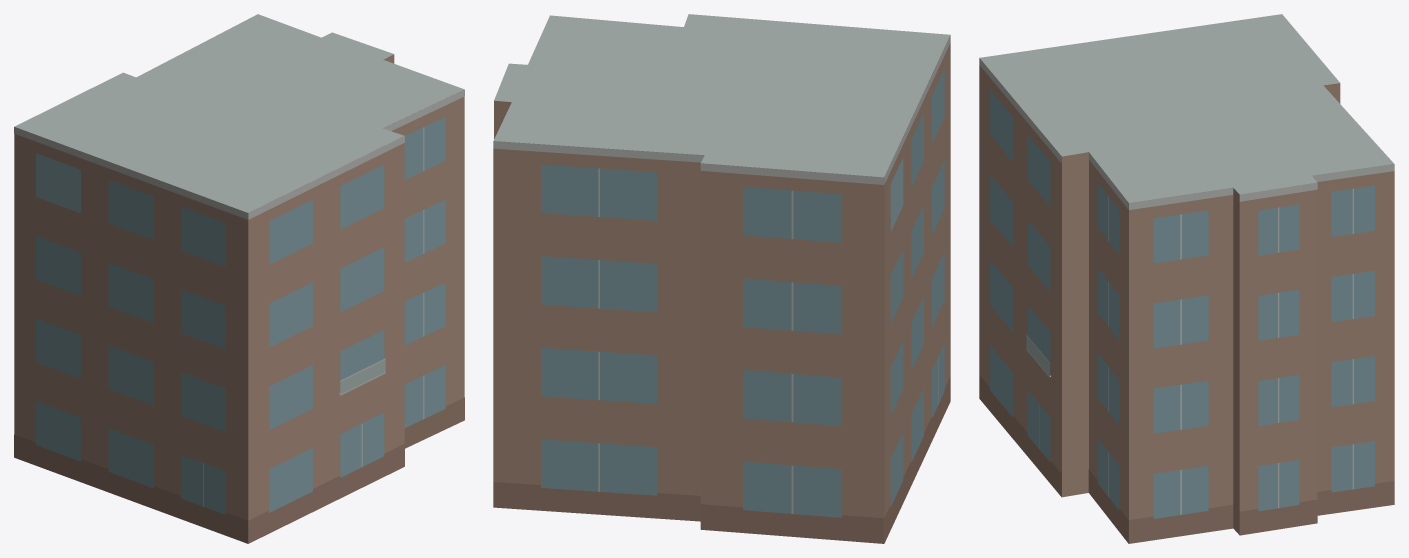
File: survey-upis-32854673.glb
3 views of the same model, side by side, from view 1: azimuth 30°, elevation 25°; view 2: azimuth 150°, elevation 25°; view 3: azimuth 270°, elevation 25° (orthographic). The views are drawn at different scales.
Parts seen in each view (by area): view 1: survey-upis-32854673.tmp; view 2: survey-upis-32854673.tmp; view 3: survey-upis-32854673.tmp.
Part boxes in pixels (x1,y1,x2,y2): survey-upis-32854673.tmp: [14, 14, 464, 543]; survey-upis-32854673.tmp: [493, 14, 950, 543]; survey-upis-32854673.tmp: [979, 14, 1394, 543].
Bounding box in the file's own units: 13.93 × 11.7 × 12.93.
